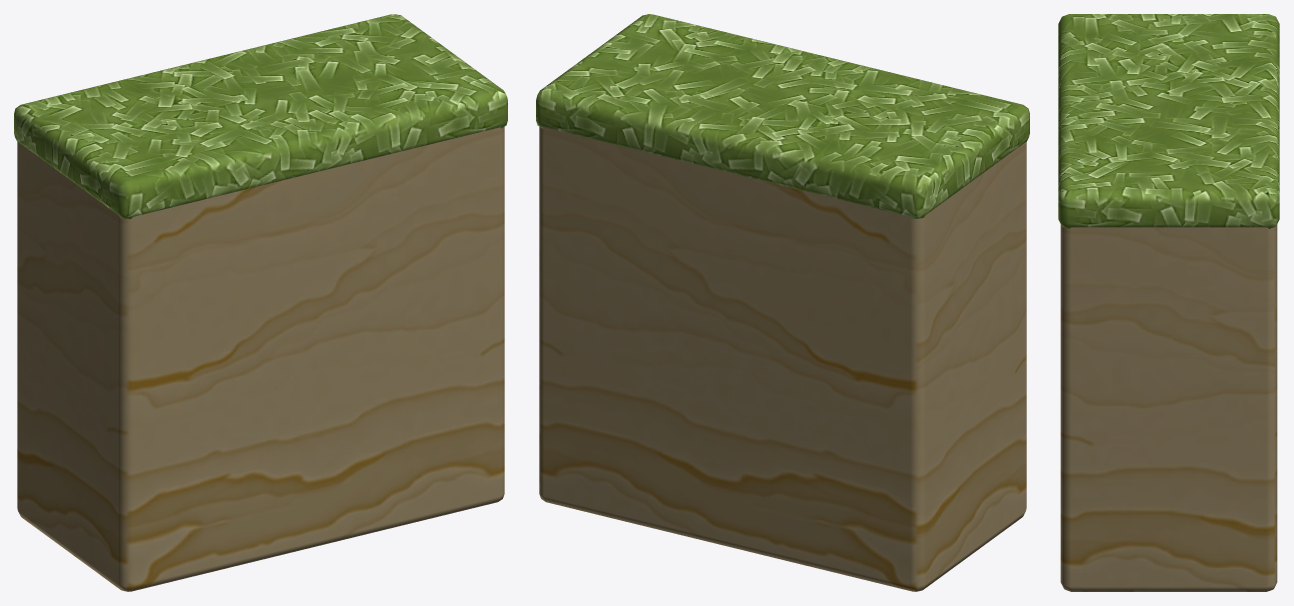
Rendered from SM_Platform_1m_02_C.glb.
The picture shows the model from 3 angles, left to right: view 1: azimuth 30°, elevation 25°; view 2: azimuth 150°, elevation 25°; view 3: azimuth 270°, elevation 25°; orthographic projection. The views are drawn at different scales.
Visible parts, largest first — view 1: SM_Platform_1m_02_C; view 2: SM_Platform_1m_02_C; view 3: SM_Platform_1m_02_C.
Part boxes in pixels (<box>): SM_Platform_1m_02_C: <box>14,14,507,591</box>; SM_Platform_1m_02_C: <box>536,14,1029,591</box>; SM_Platform_1m_02_C: <box>1058,14,1279,591</box>.
Size of the model in its own units: 2.02 by 2.05 by 1.02.
Materials: 2 (2 with a texture image).
